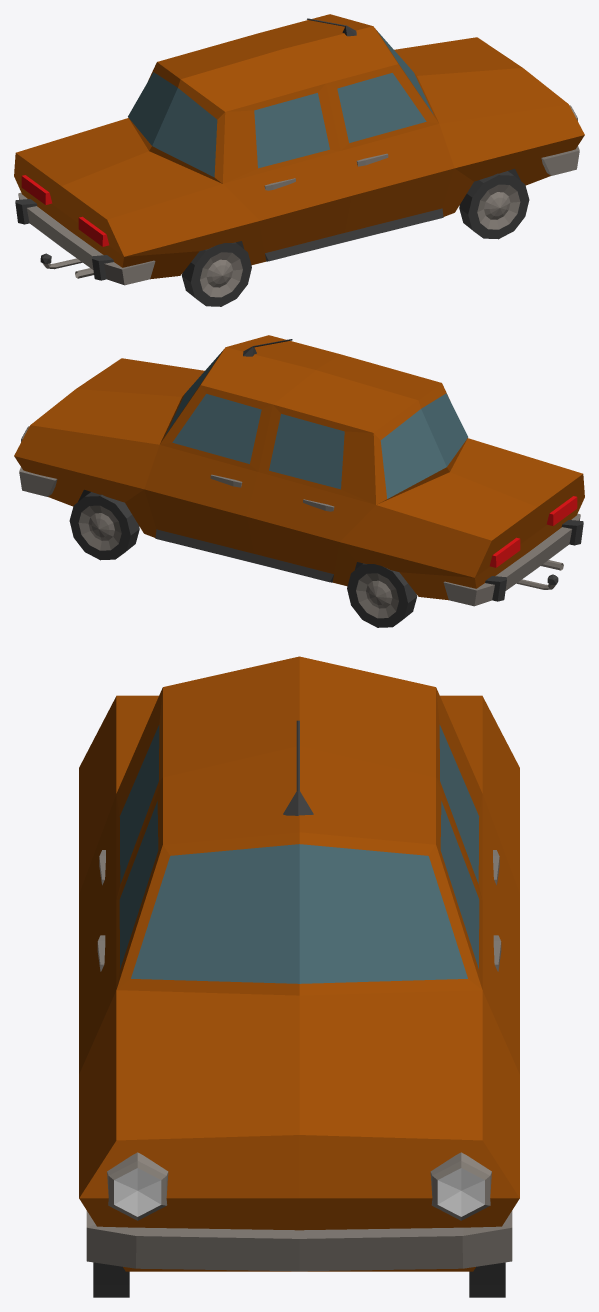
File: car_02.fbx
3 renders of one model, top to bottom at view 1: azimuth 30°, elevation 25°; view 2: azimuth 150°, elevation 25°; view 3: azimuth 270°, elevation 25°, orthographic. The views are drawn at different scales.
Visible parts, largest first — view 1: car_02; view 2: car_02; view 3: car_02.
Boxes of the visible parts, x1,y1,x2,y2 form: car_02: (14,14,584,306); car_02: (14,335,584,627); car_02: (79,656,519,1297).
Bounding box in the file's own units: 595 × 249 × 229.
